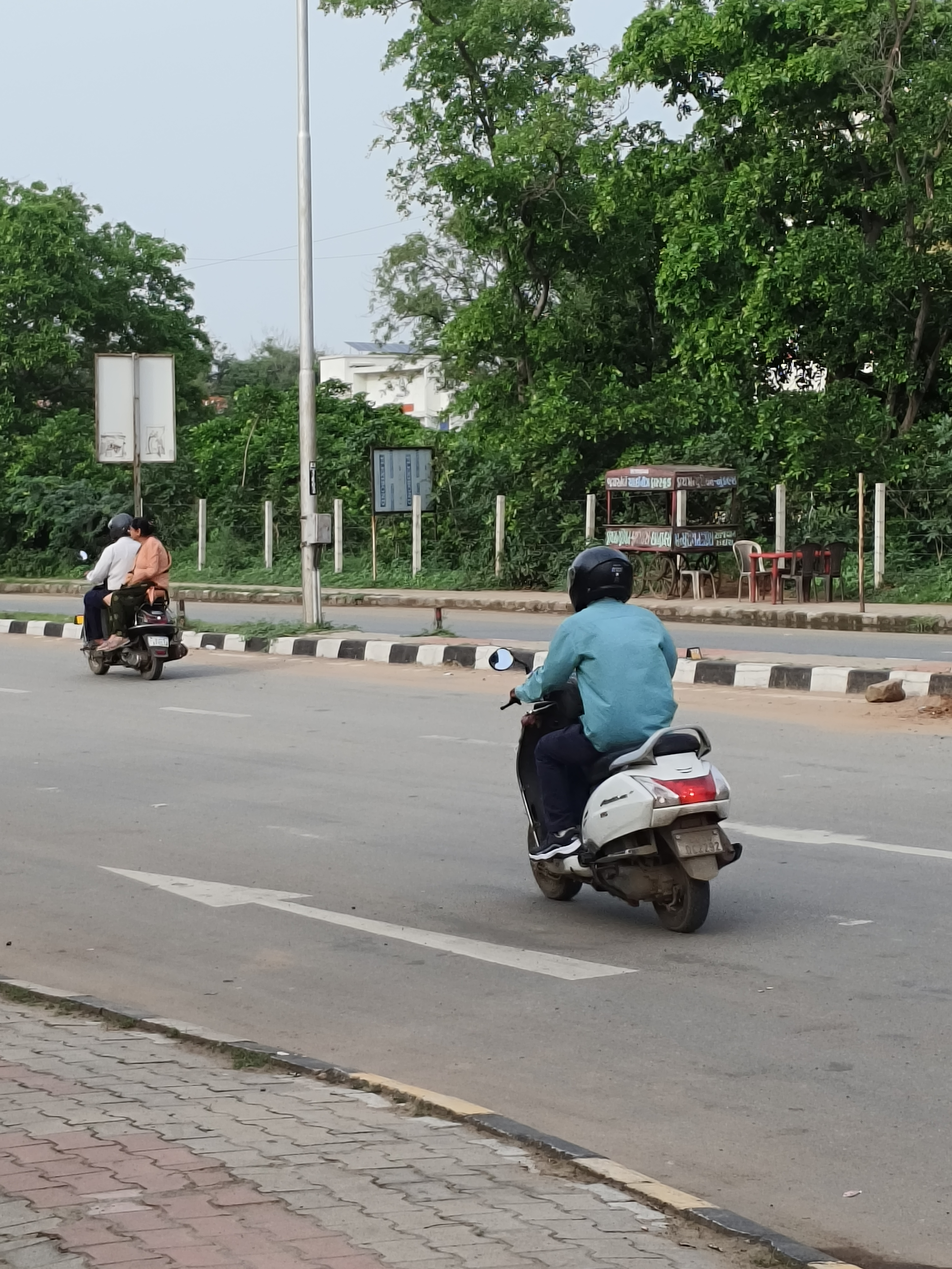BikeWithRider: (481, 540, 748, 938), (68, 507, 195, 686)
Helmet: (107, 511, 134, 543)
NoHelmet: (563, 541, 636, 617), (128, 514, 155, 546)
